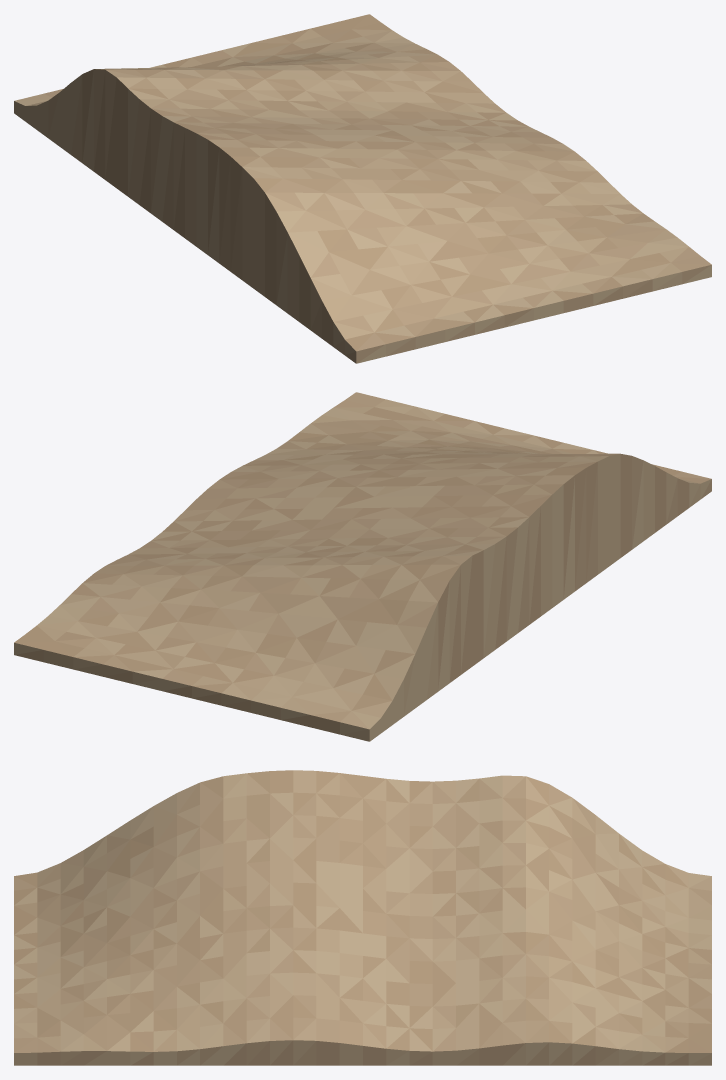
File: 05_sidehill_right.glb
3 views of the same model, one above another, from view 1: azimuth 30°, elevation 25°; view 2: azimuth 150°, elevation 25°; view 3: azimuth 270°, elevation 25° (orthographic).
Parts seen in each view (by area): view 1: ObstacleMesh; view 2: ObstacleMesh; view 3: ObstacleMesh.
Boxes of the visible parts, x1,y1,x2,y2 form: ObstacleMesh: [14, 14, 711, 363]; ObstacleMesh: [14, 392, 711, 741]; ObstacleMesh: [14, 770, 711, 1065].
Bounding box in the file's own units: 6 × 1.87 × 10.
